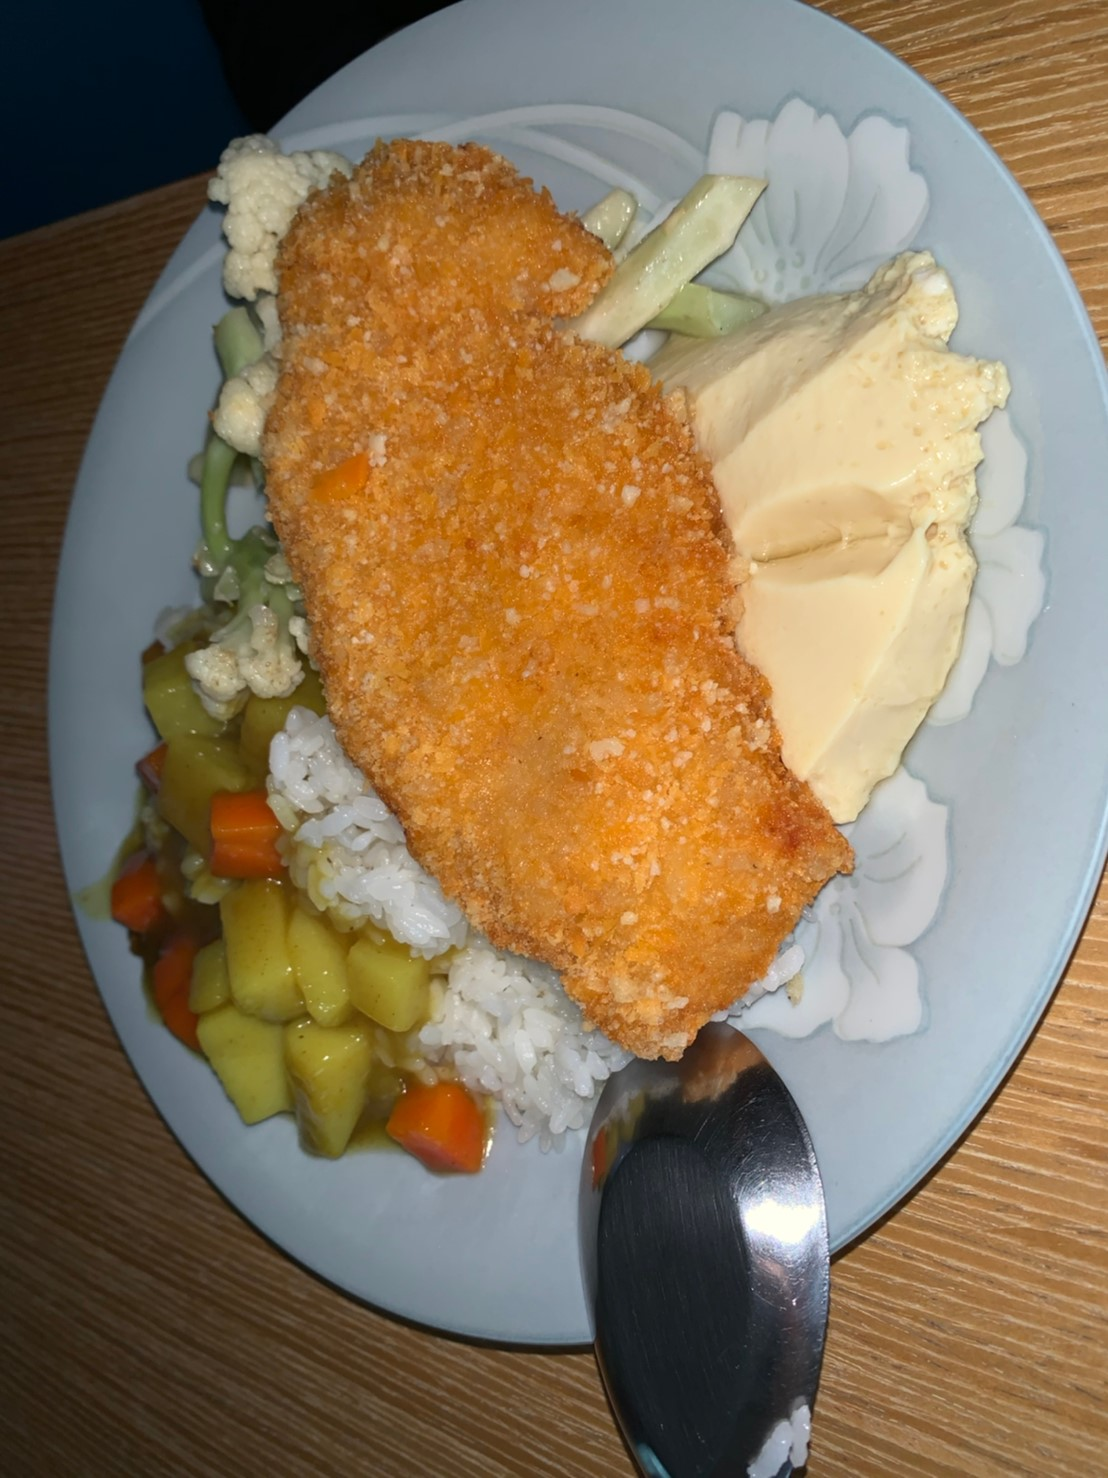curry: (105, 656, 492, 1164)
fried_chicken: (274, 143, 854, 1054)
rice: (269, 718, 644, 1141)
